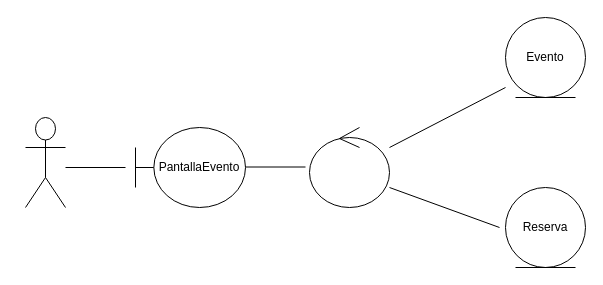
Image size: 603x285. Some labels were removed from this diagram. Here are the shapes that lost their labels. From the top down, the centre of each, then its label:
At (x=45, y=162): "Estudiante".
At (x=349, y=167): "CalculoDisp Cupos".
